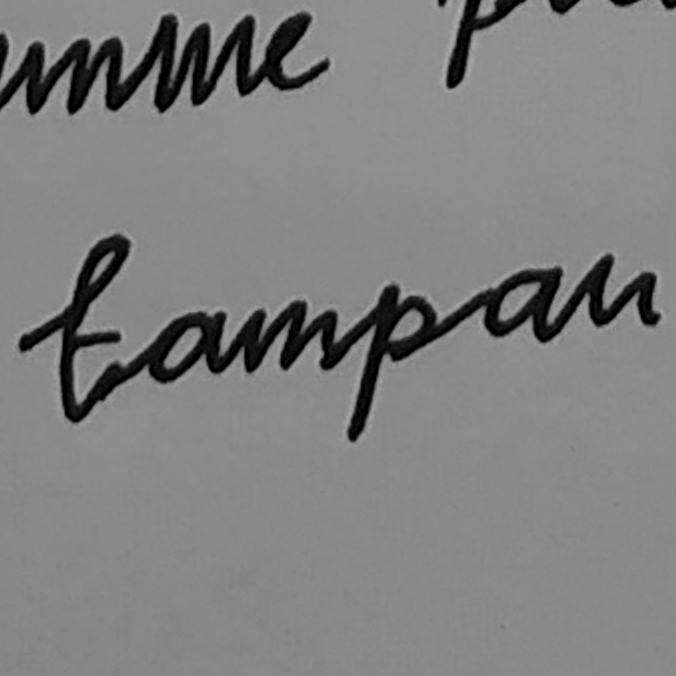a: (478, 259, 570, 349), (141, 302, 228, 386)
m: (232, 292, 342, 381)
n: (575, 248, 667, 335)
p: (343, 276, 442, 451)
t: (47, 224, 137, 427)
